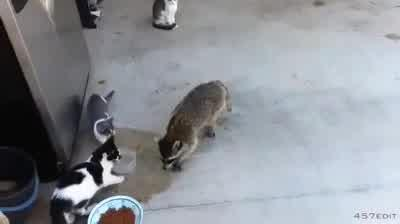raccoon: (157, 79, 233, 173)
